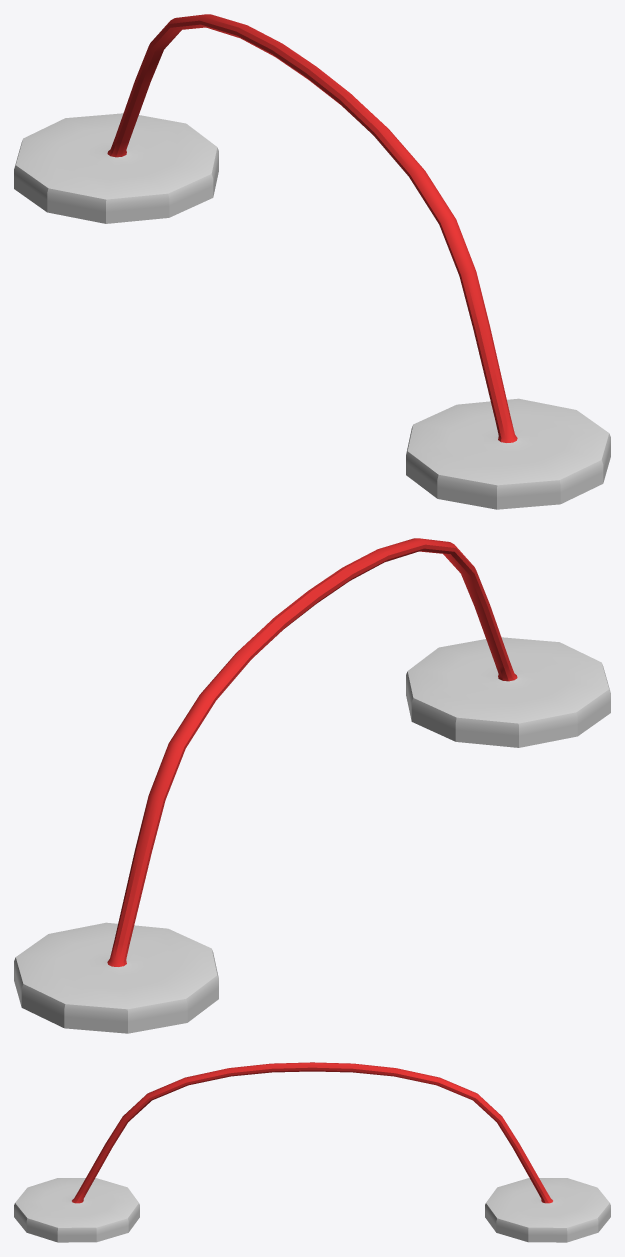
Rendered from WiringFixed.fbx.
The picture shows the model from 3 angles, top to bottom: view 1: azimuth 30°, elevation 25°; view 2: azimuth 150°, elevation 25°; view 3: azimuth 270°, elevation 25°; orthographic projection. The views are drawn at different scales.
Visible parts, largest first — view 1: wiringFixed; view 2: wiringFixed; view 3: wiringFixed.
Part boxes in pixels (left/top/right/bottom): wiringFixed: left=14, top=14, right=610, bottom=509; wiringFixed: left=14, top=538, right=610, bottom=1033; wiringFixed: left=14, top=1062, right=610, bottom=1242.
Bounding box in the file's own units: 73.2 × 103 × 363.
